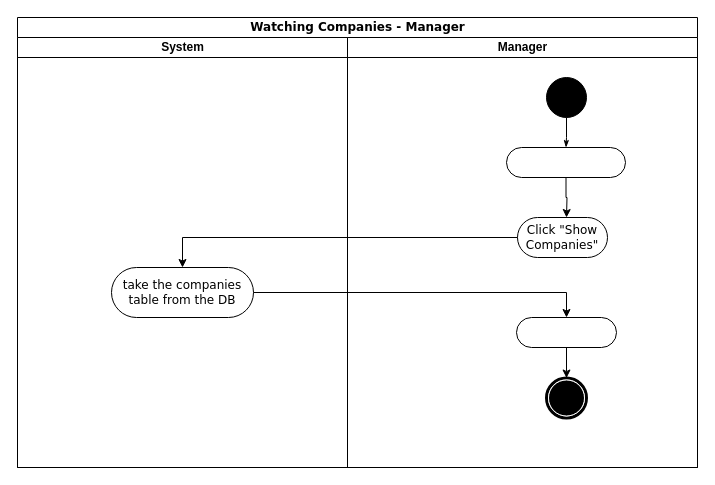
The diagram is 715 pixels wide and 485 high, and some of its shapes have lost their labels. Each missing label, with the centre of its shape:
Click "Manager Menu": [566,162]
do stuff: [566,332]
